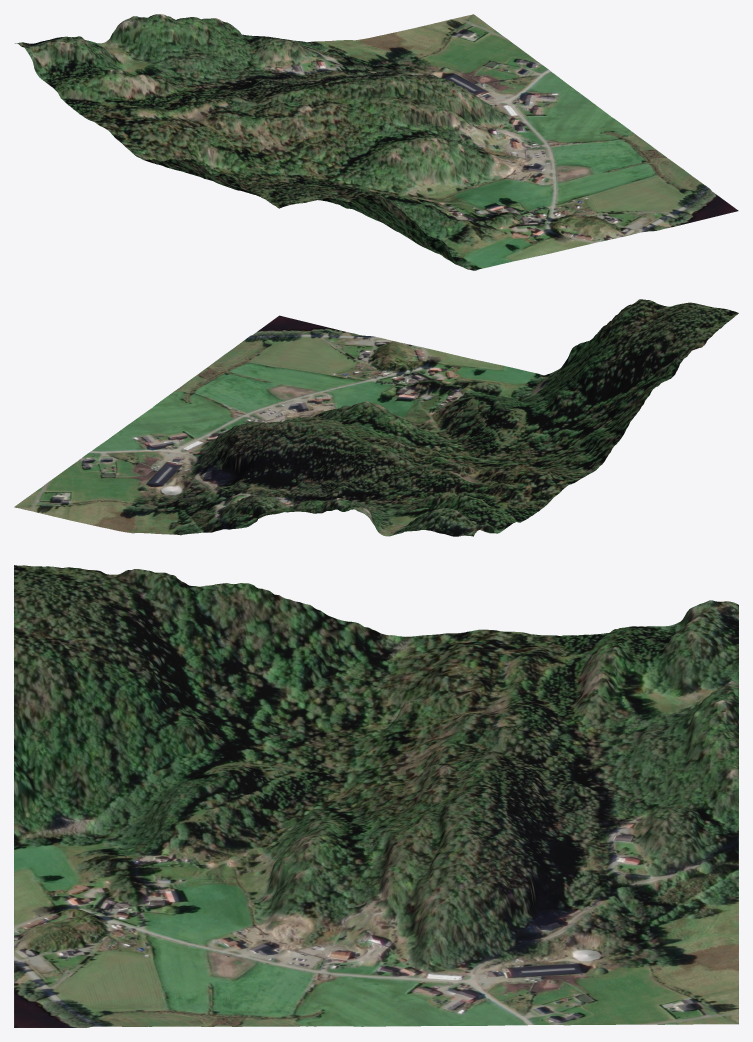
The model's file is site_terrain.glb.
The picture shows the model from 3 angles, top to bottom: view 1: azimuth 30°, elevation 25°; view 2: azimuth 150°, elevation 25°; view 3: azimuth 270°, elevation 25°; orthographic projection. The views are drawn at different scales.
Visible parts, largest first — view 1: web_site_terrain; view 2: web_site_terrain; view 3: web_site_terrain.
Part boxes in pixels (x1,y1,x2,y2): web_site_terrain: (15, 14, 738, 270); web_site_terrain: (14, 299, 738, 536); web_site_terrain: (14, 565, 738, 1027).
Size of the model in its own units: 700 by 169 by 700.
Materials: 1 (1 with a texture image).
